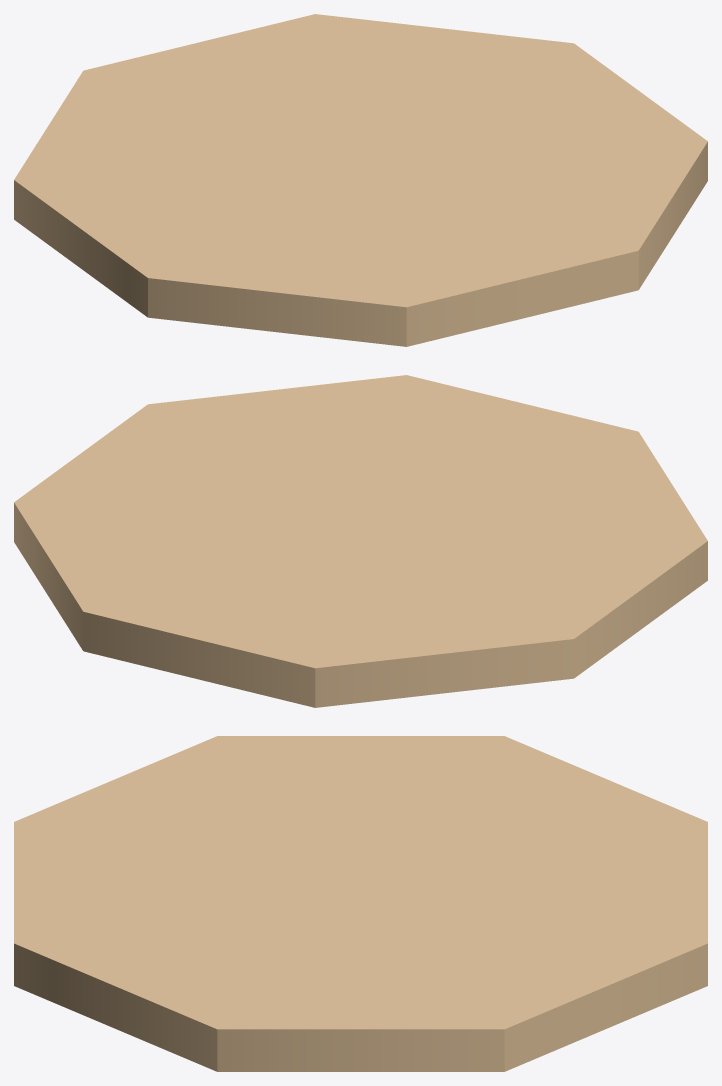
File: Plage_Arene_foot_v1_001.FBX
The picture shows the model from 3 angles, top to bottom: view 1: azimuth 30°, elevation 25°; view 2: azimuth 150°, elevation 25°; view 3: azimuth 270°, elevation 25°; orthographic projection. The views are drawn at different scales.
Visible parts, largest first — view 1: Arène001; view 2: Arène001; view 3: Arène001.
Part boxes in pixels (bbox=[...]): Arène001: bbox=[14, 14, 707, 346]; Arène001: bbox=[14, 375, 707, 707]; Arène001: bbox=[14, 736, 707, 1071].
Size of the model in its own units: 739 by 50 by 739.
